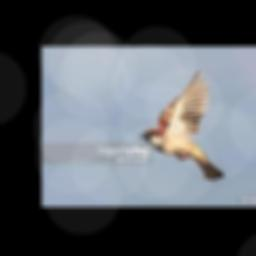Sparrow: (140, 72, 225, 180)
